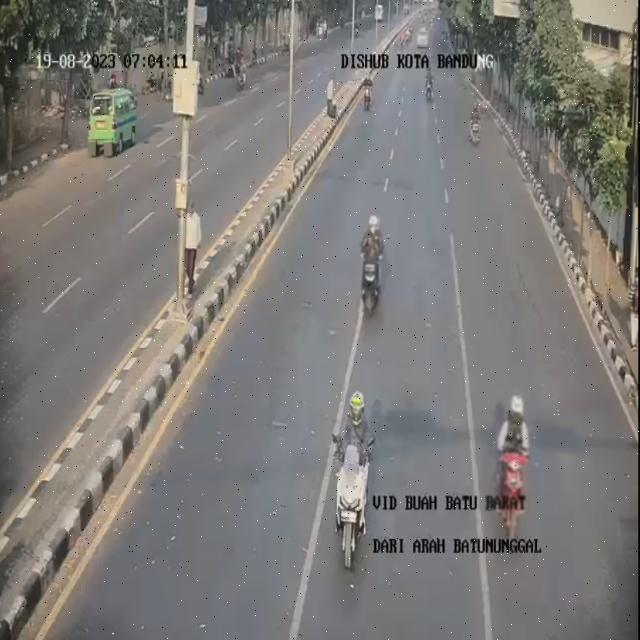cars: (414, 24, 431, 47)
motorcycle: (327, 382, 373, 566), (481, 380, 531, 532), (358, 208, 392, 312), (461, 97, 482, 147), (354, 73, 379, 110), (425, 62, 438, 102)
